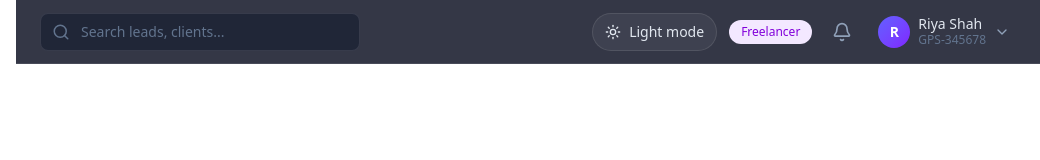
Test: PartnerHeader › toggles the persisted partner theme from the navbar control
The width and height of the screenshot is (1040, 160).
Expected: the text "Light mode" is shown, [629,22,704,42]
Click the button with aria-label "switch to light mode" at [655, 32], box [592,12,717,50]
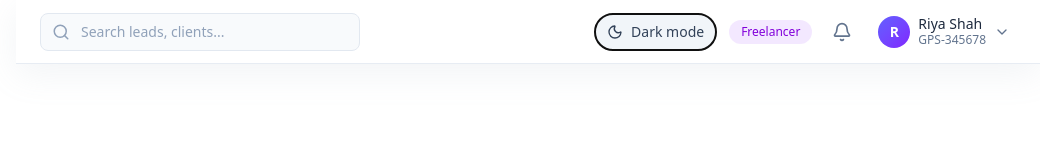
Now the button with aria-label "switch to dark mode" is shown, box [594,12,717,50]
Now the text "Dark mode" is shown, box [631,22,704,42]
